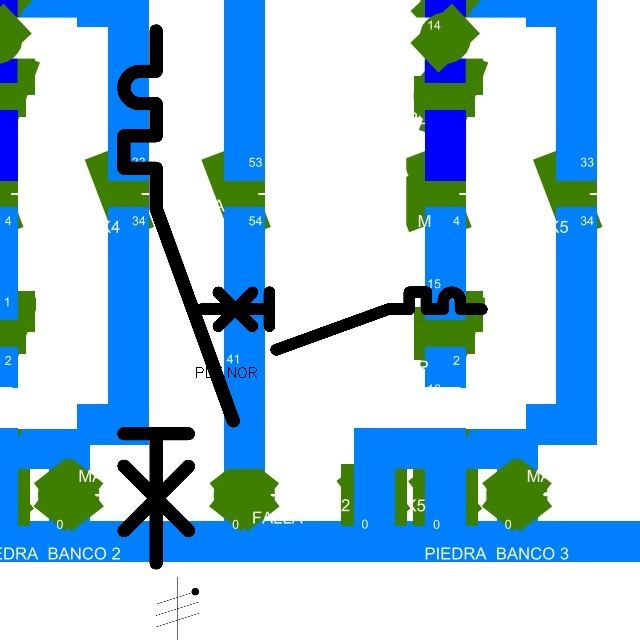interruptor_termomagnetico: (110, 17, 247, 576), (194, 285, 489, 357)
